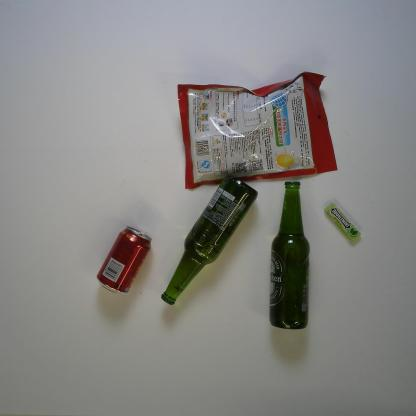Alcohol: (159, 172, 258, 306), (266, 179, 313, 331)
Drink: (94, 225, 153, 296)
Gum: (324, 202, 362, 244)
Instant Drink: (176, 69, 339, 192)
